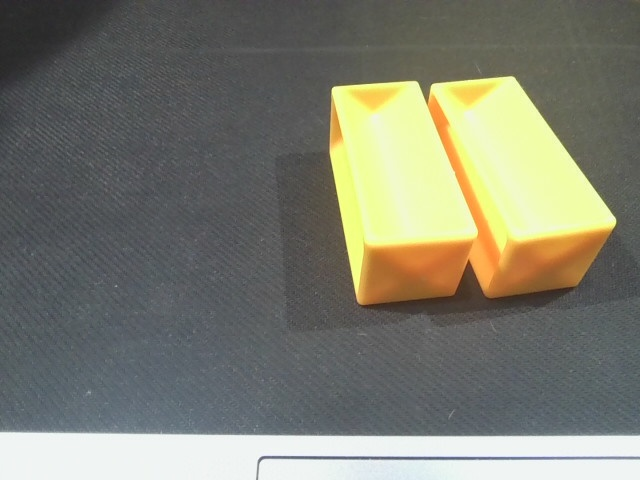YellowSample: (427, 65, 621, 310), (318, 77, 479, 321)
